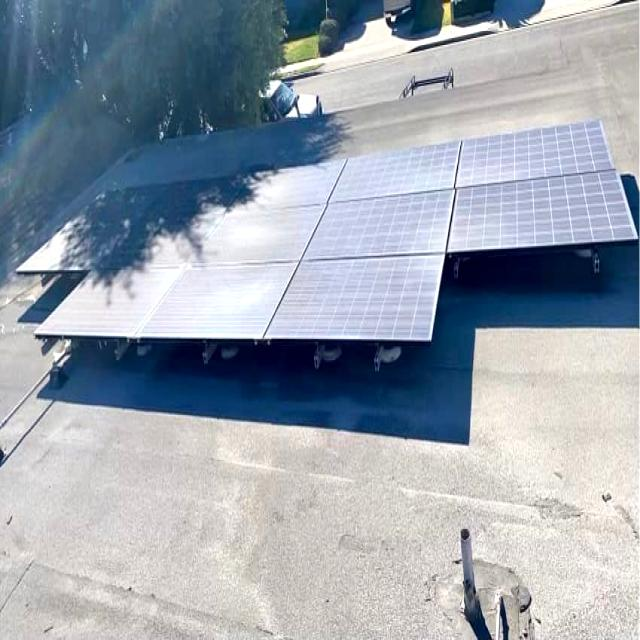dust: (298, 263, 429, 335), (469, 134, 606, 184), (487, 190, 626, 228), (332, 204, 438, 246), (180, 270, 258, 327), (344, 155, 454, 188), (227, 215, 298, 260), (252, 173, 324, 200), (70, 295, 132, 321)
